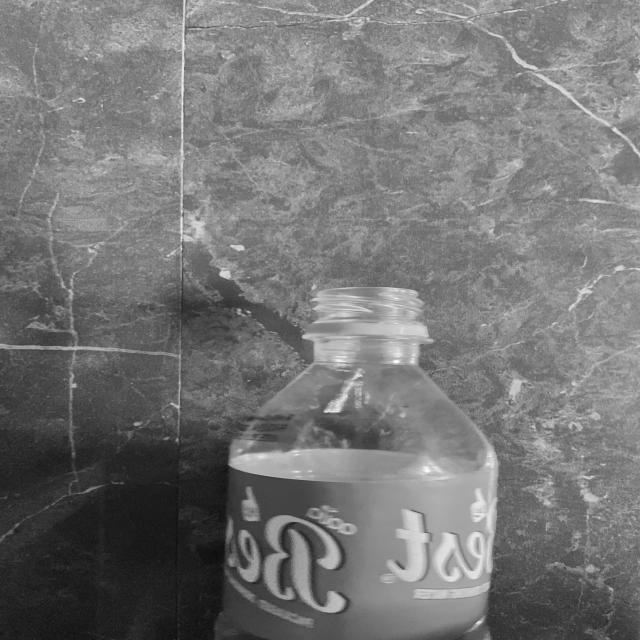open-cap: (304, 284, 431, 342)
